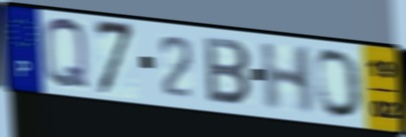2: (158, 34, 195, 101)
7: (93, 17, 137, 98)
B: (202, 34, 254, 108)
H: (258, 41, 315, 116)
O: (313, 47, 365, 121)
Q: (40, 15, 92, 93)
